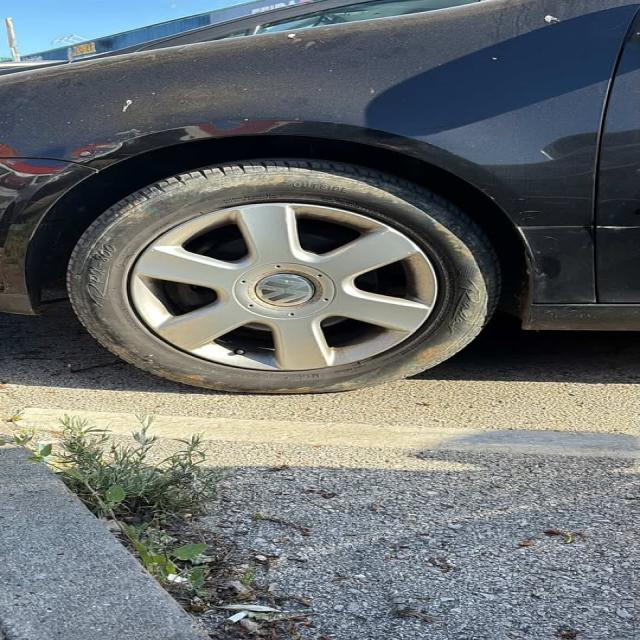jante: (126, 202, 439, 372)
roda: (66, 157, 502, 395)
